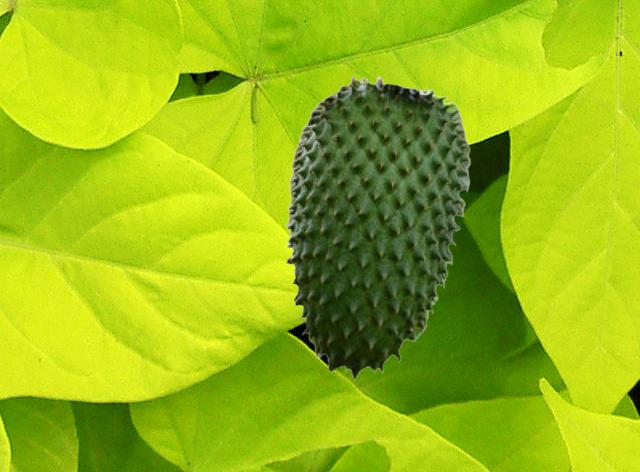guyabano: (285, 75, 470, 379)
